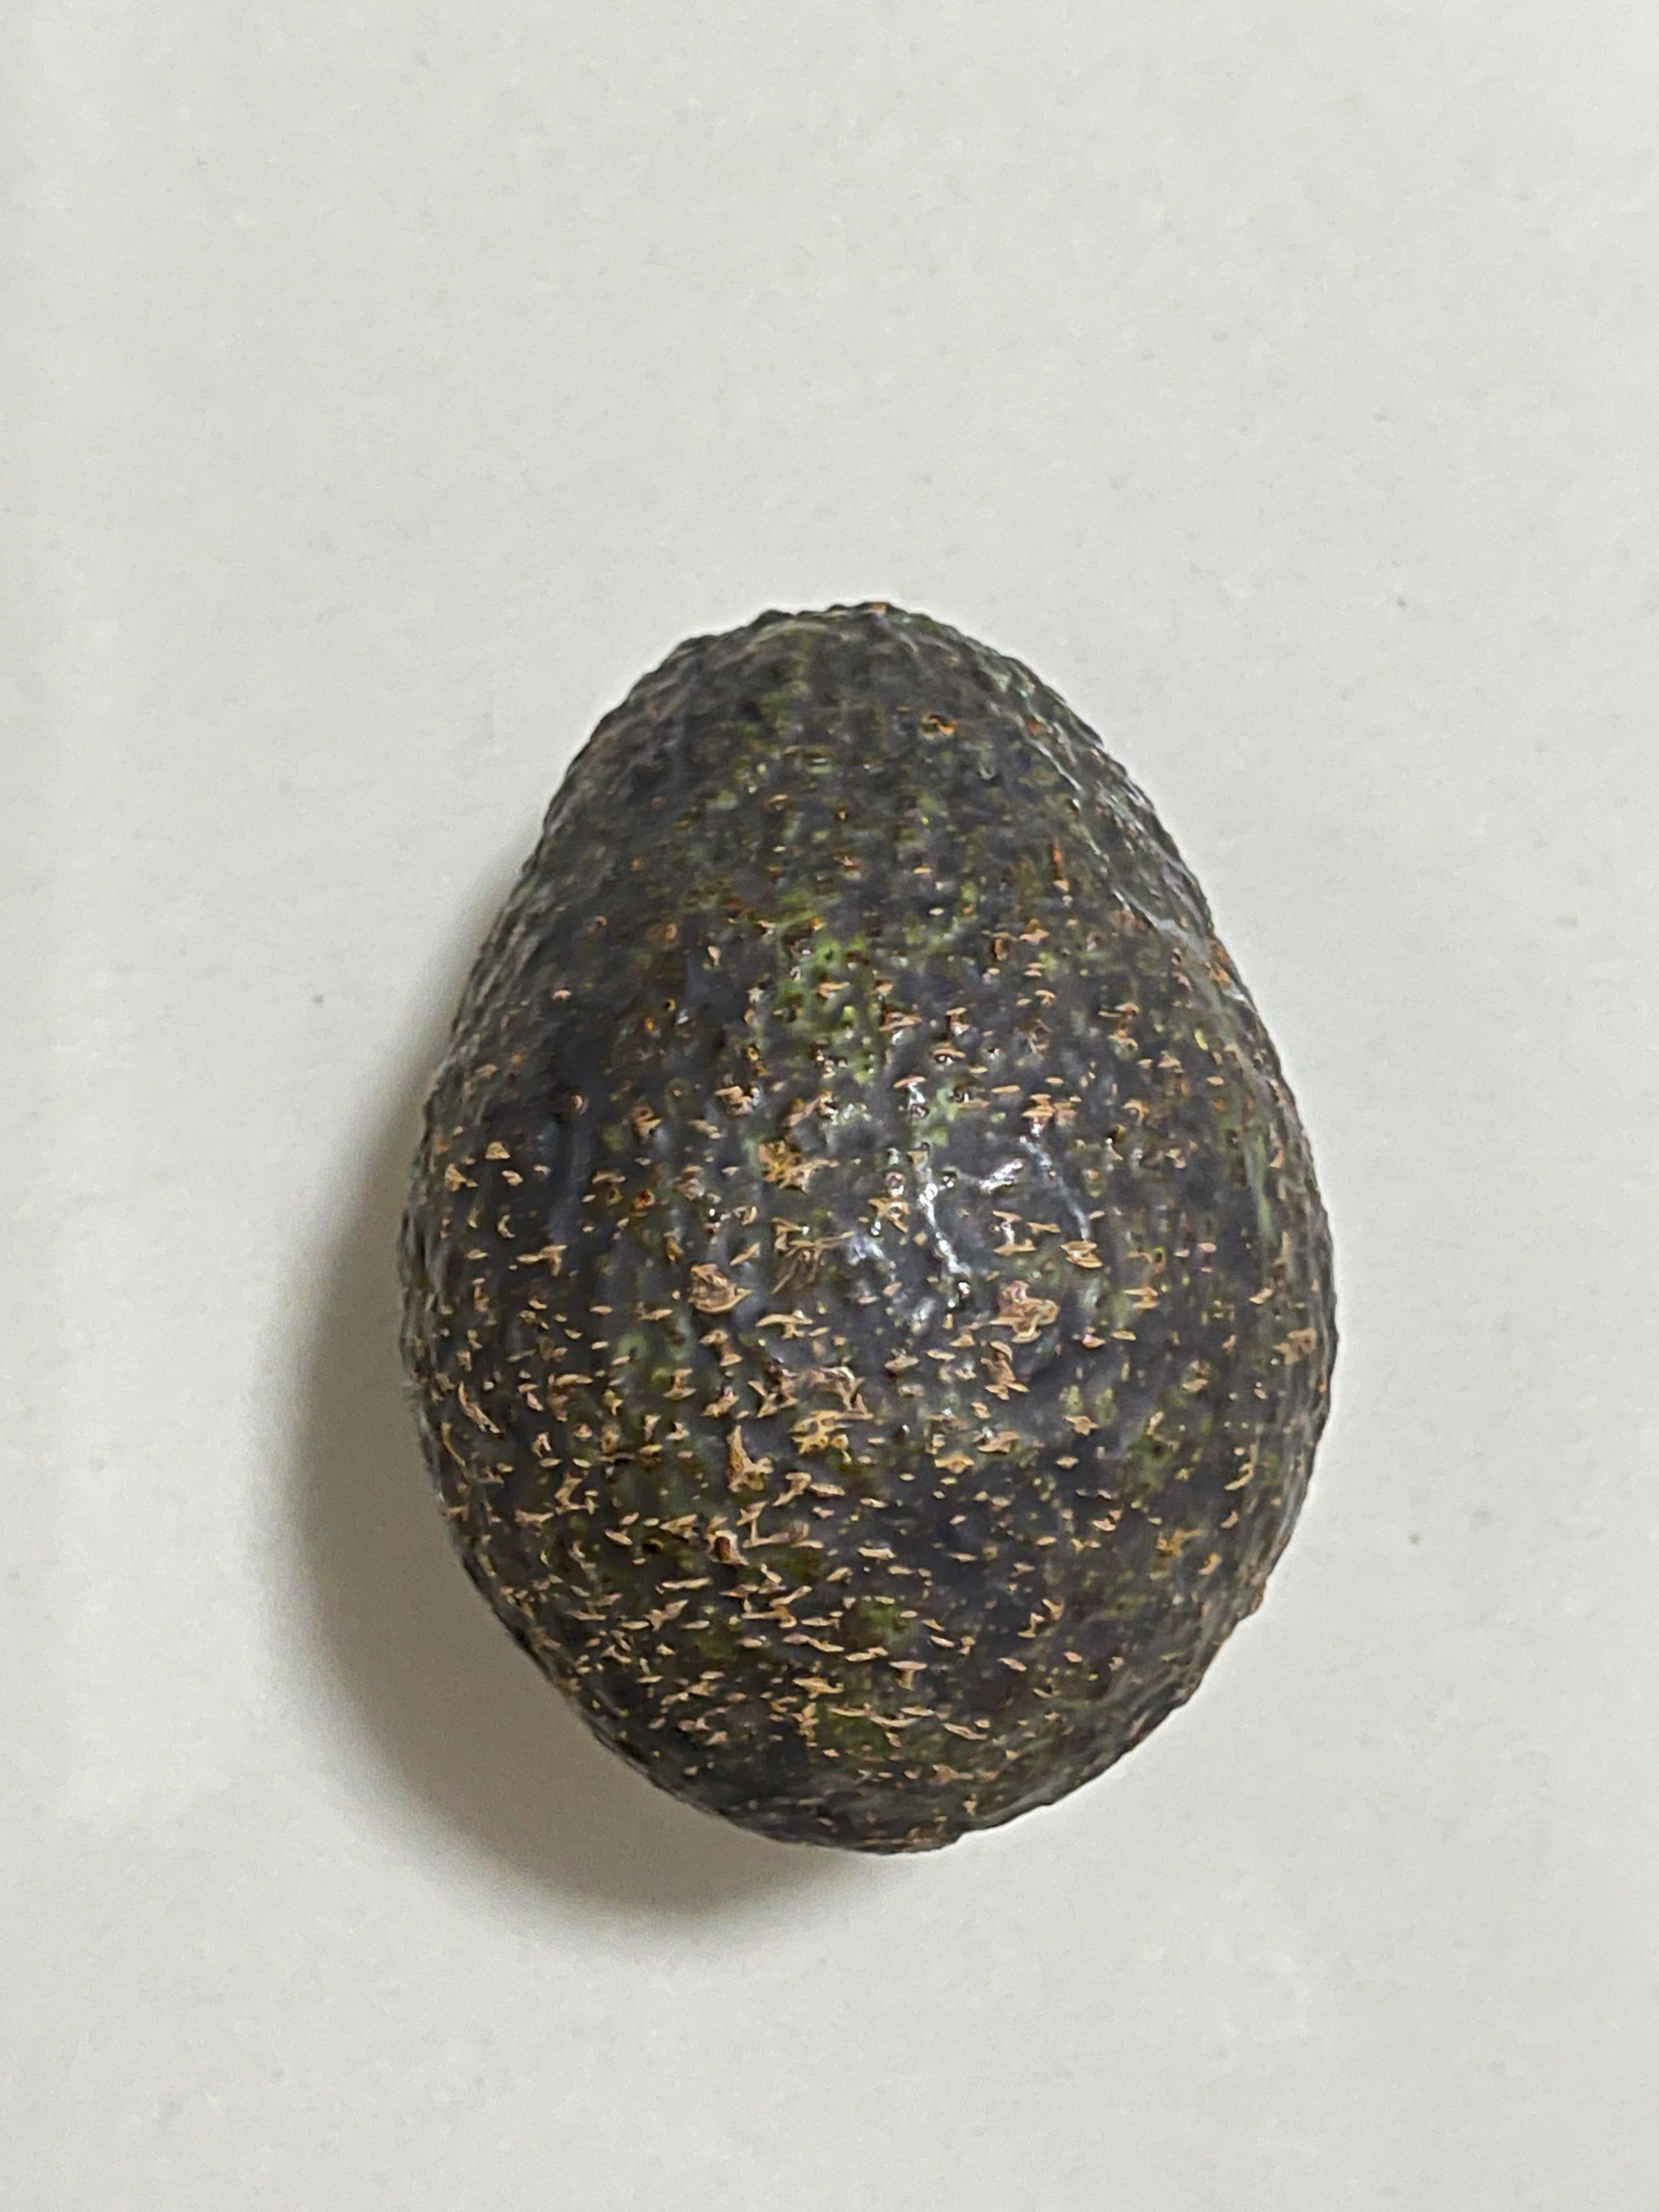Level2: (373, 587, 1368, 1876)
